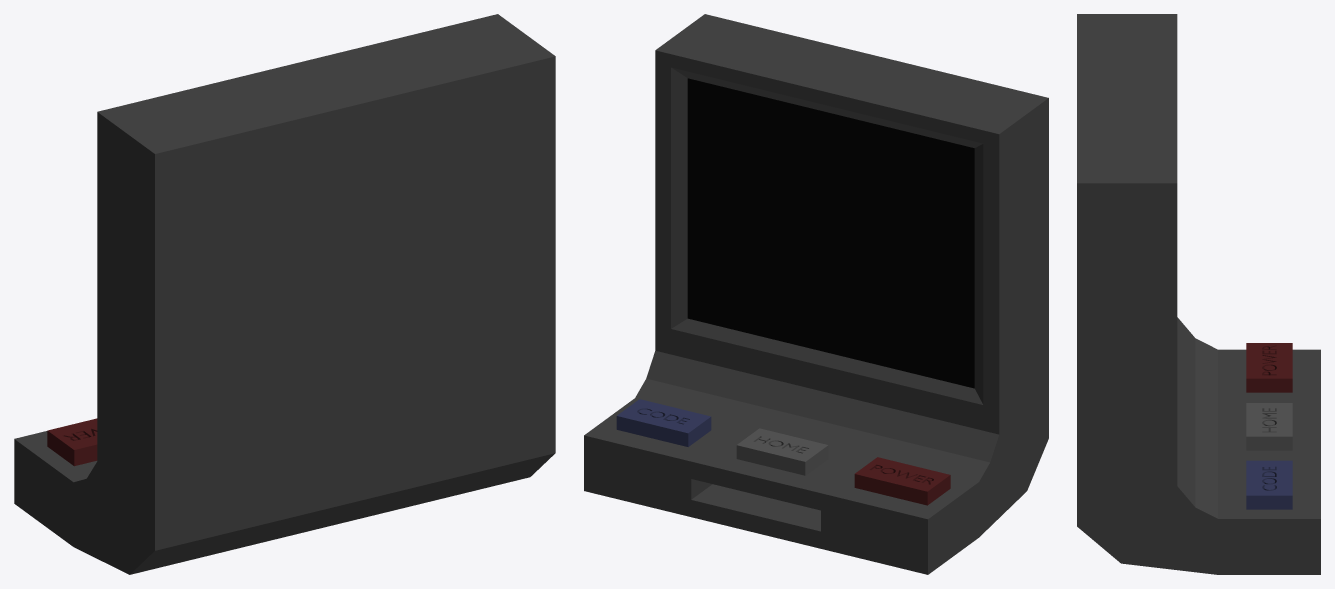
File: Computer.gltf
The picture shows the model from 3 angles, left to right: view 1: azimuth 30°, elevation 25°; view 2: azimuth 150°, elevation 25°; view 3: azimuth 270°, elevation 25°; orthographic projection. The views are drawn at different scales.
Visible parts, largest first — view 1: console; view 2: console; view 3: console.
Boxes of the visible parts, bbox=[...] form: console: bbox=[14, 14, 555, 574]; console: bbox=[584, 14, 1048, 574]; console: bbox=[1077, 14, 1320, 574].
Bounding box in the file's own units: 1 × 1.08 × 0.6086.
